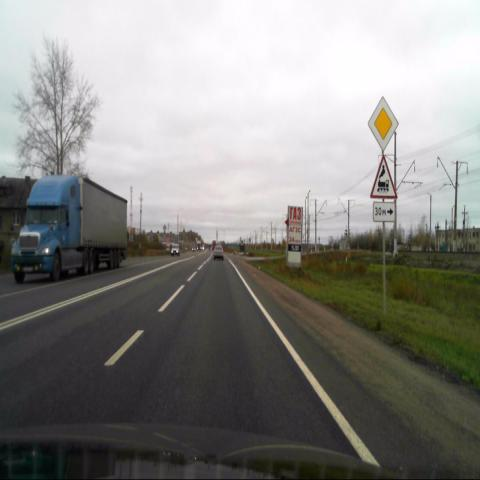8_1_3: (372, 202, 397, 222)
